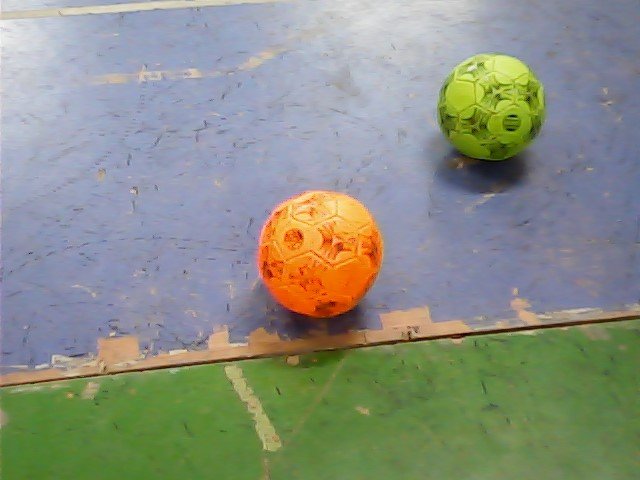Green_ball: (434, 53, 548, 161)
Orange_ball: (254, 187, 383, 317)
